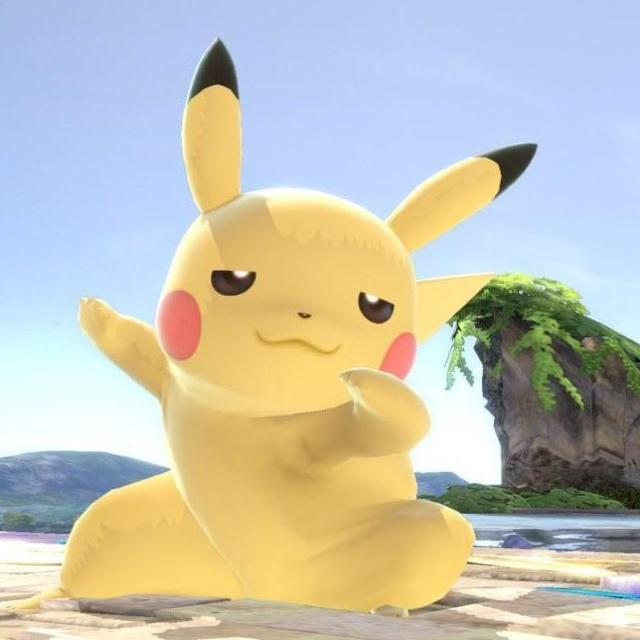pikachu: (61, 38, 538, 590)
